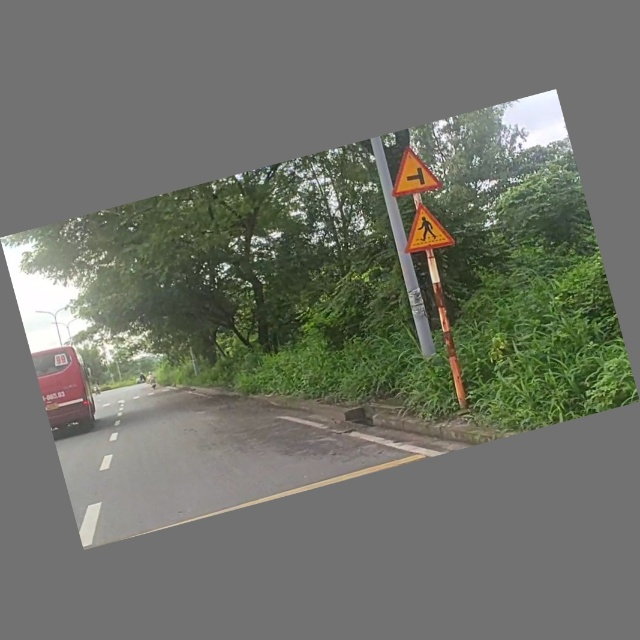W.205c: (384, 143, 441, 199)
W.224: (392, 194, 461, 261)
